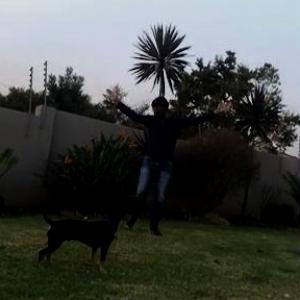takeoff: (110, 79, 244, 232)
